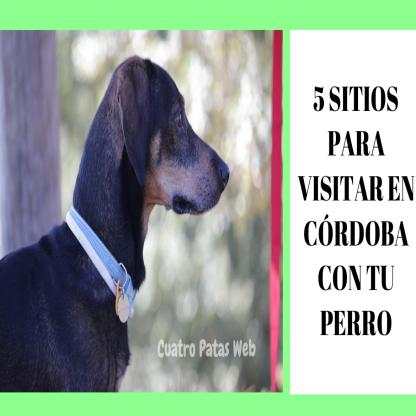dog: (0, 56, 230, 392)
